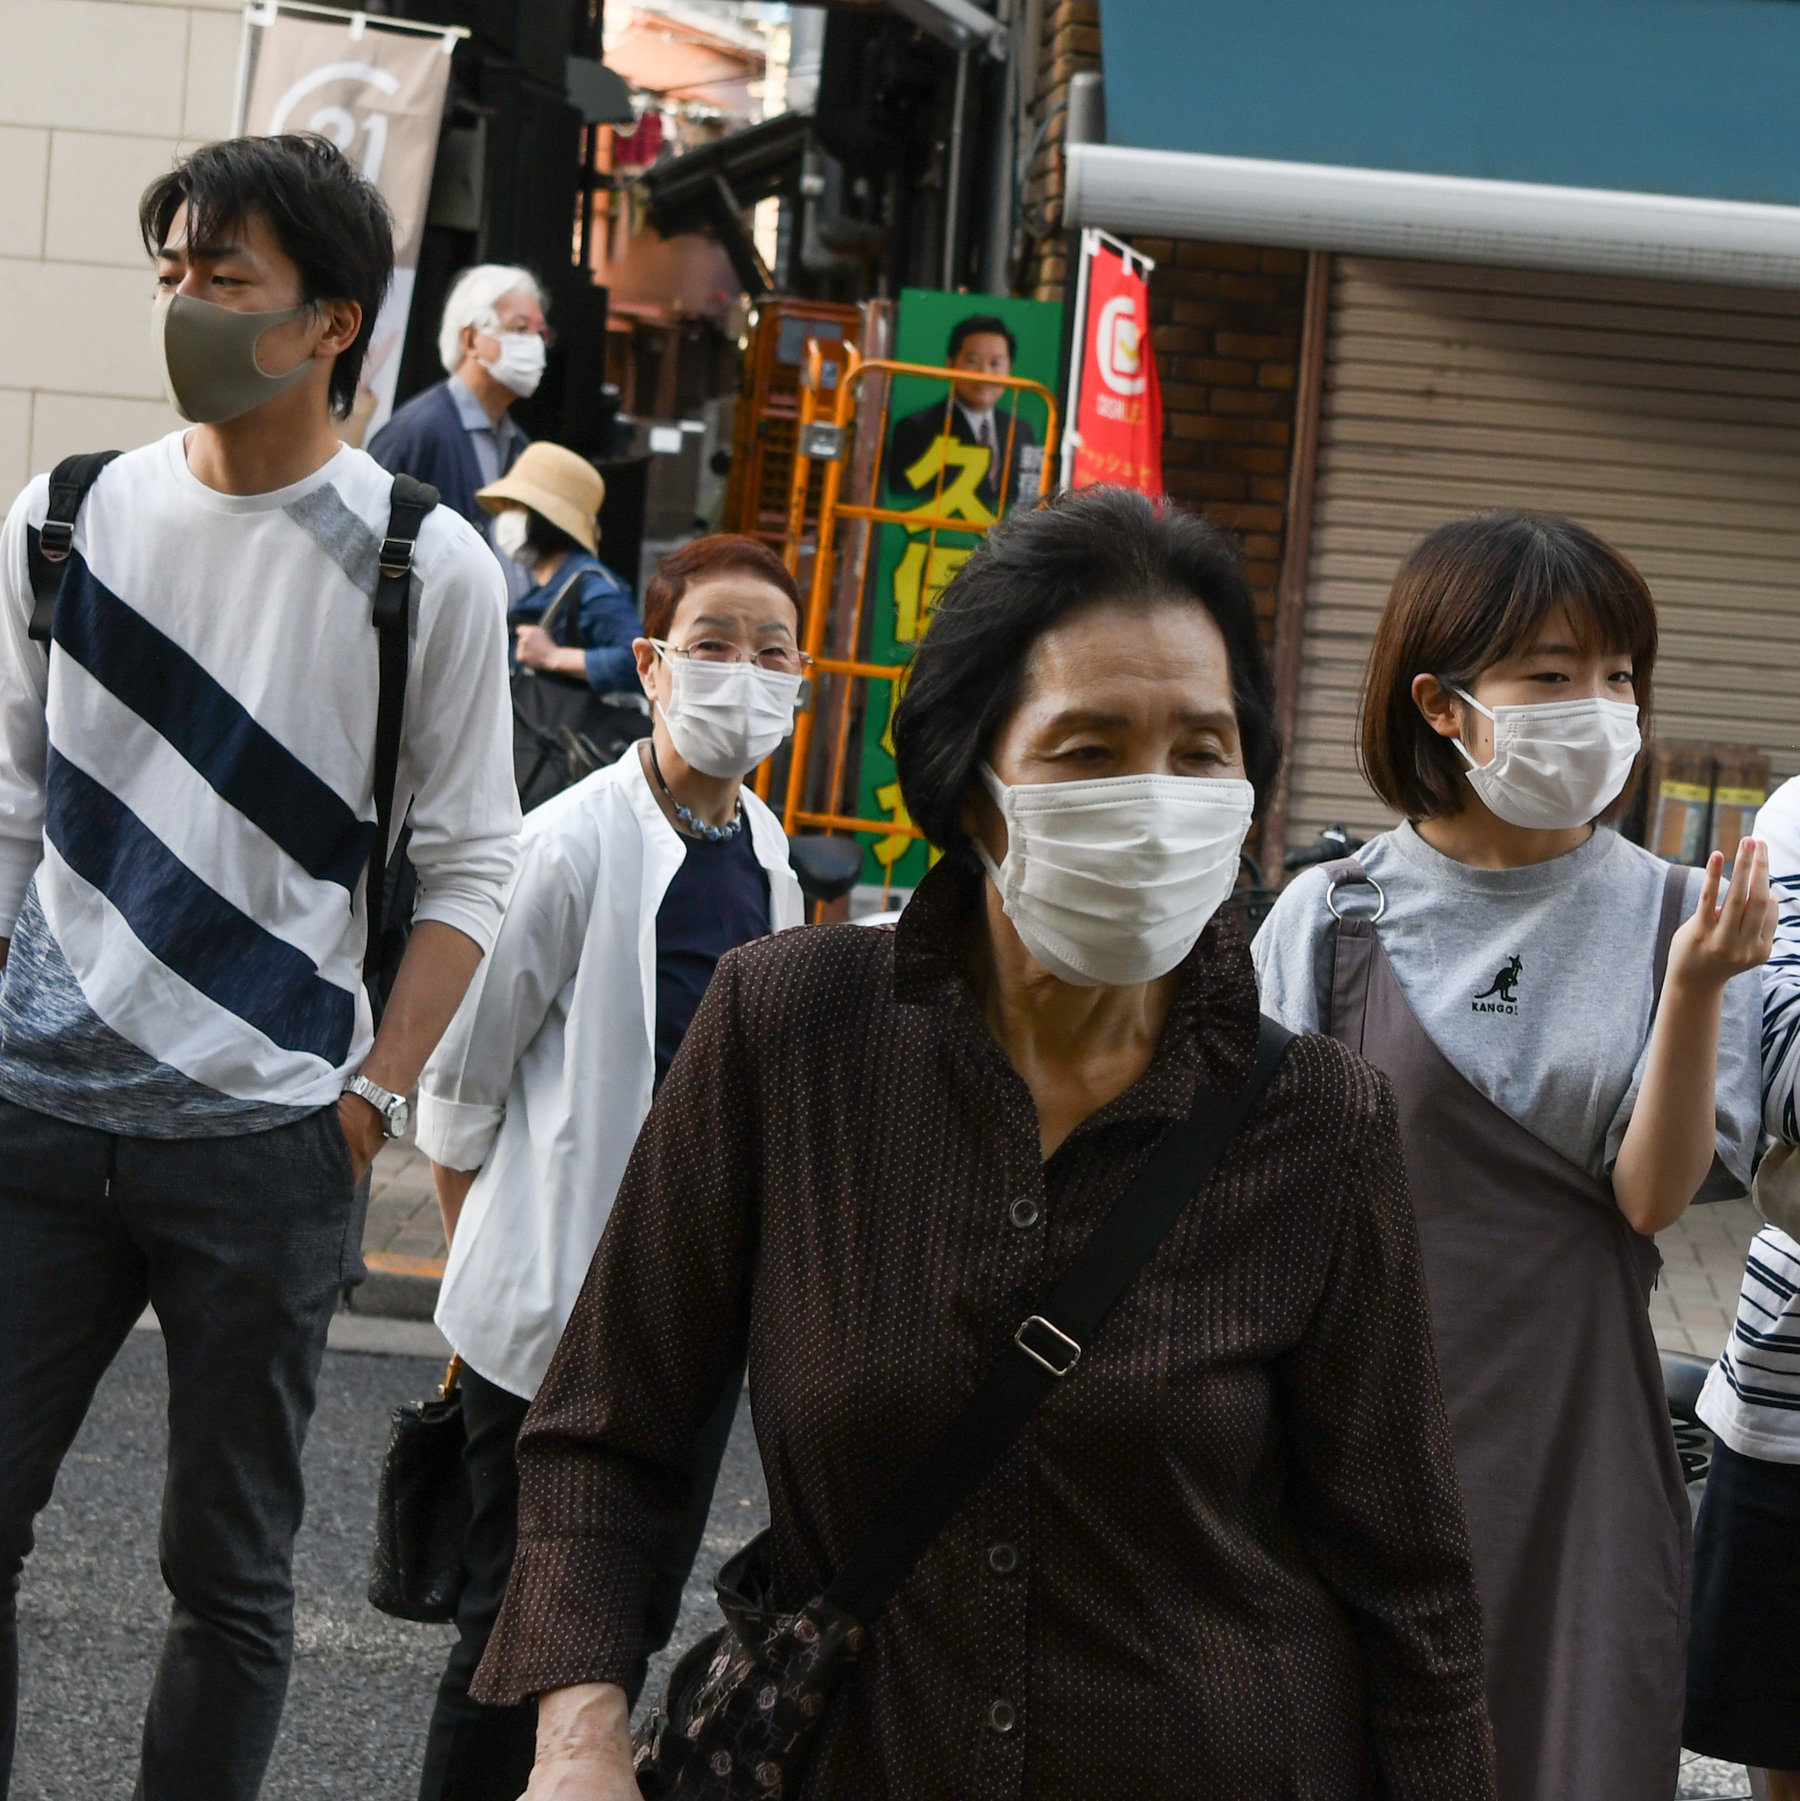with_mask: (1013, 644, 1239, 972), (1451, 604, 1641, 836), (147, 216, 309, 404), (673, 600, 783, 774)
